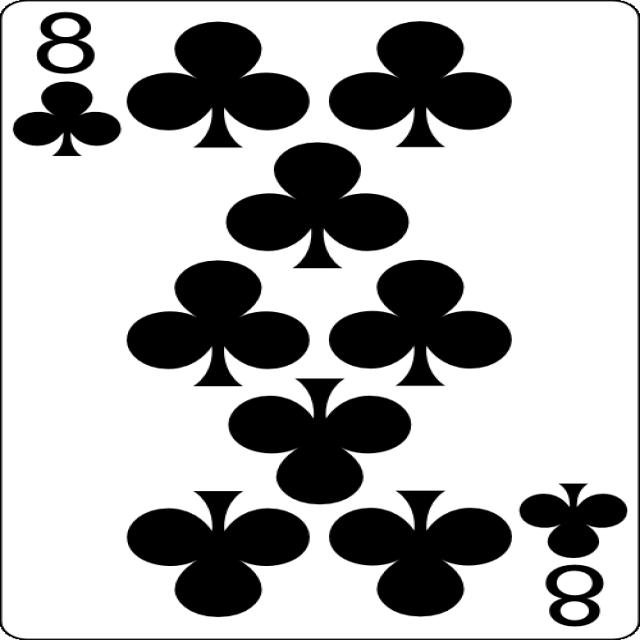Club: (227, 377, 412, 505), (126, 21, 310, 148), (125, 260, 310, 386), (225, 142, 409, 268), (328, 259, 512, 385), (126, 491, 311, 616), (328, 21, 512, 146), (328, 491, 512, 616), (519, 483, 628, 558), (12, 82, 122, 156)
